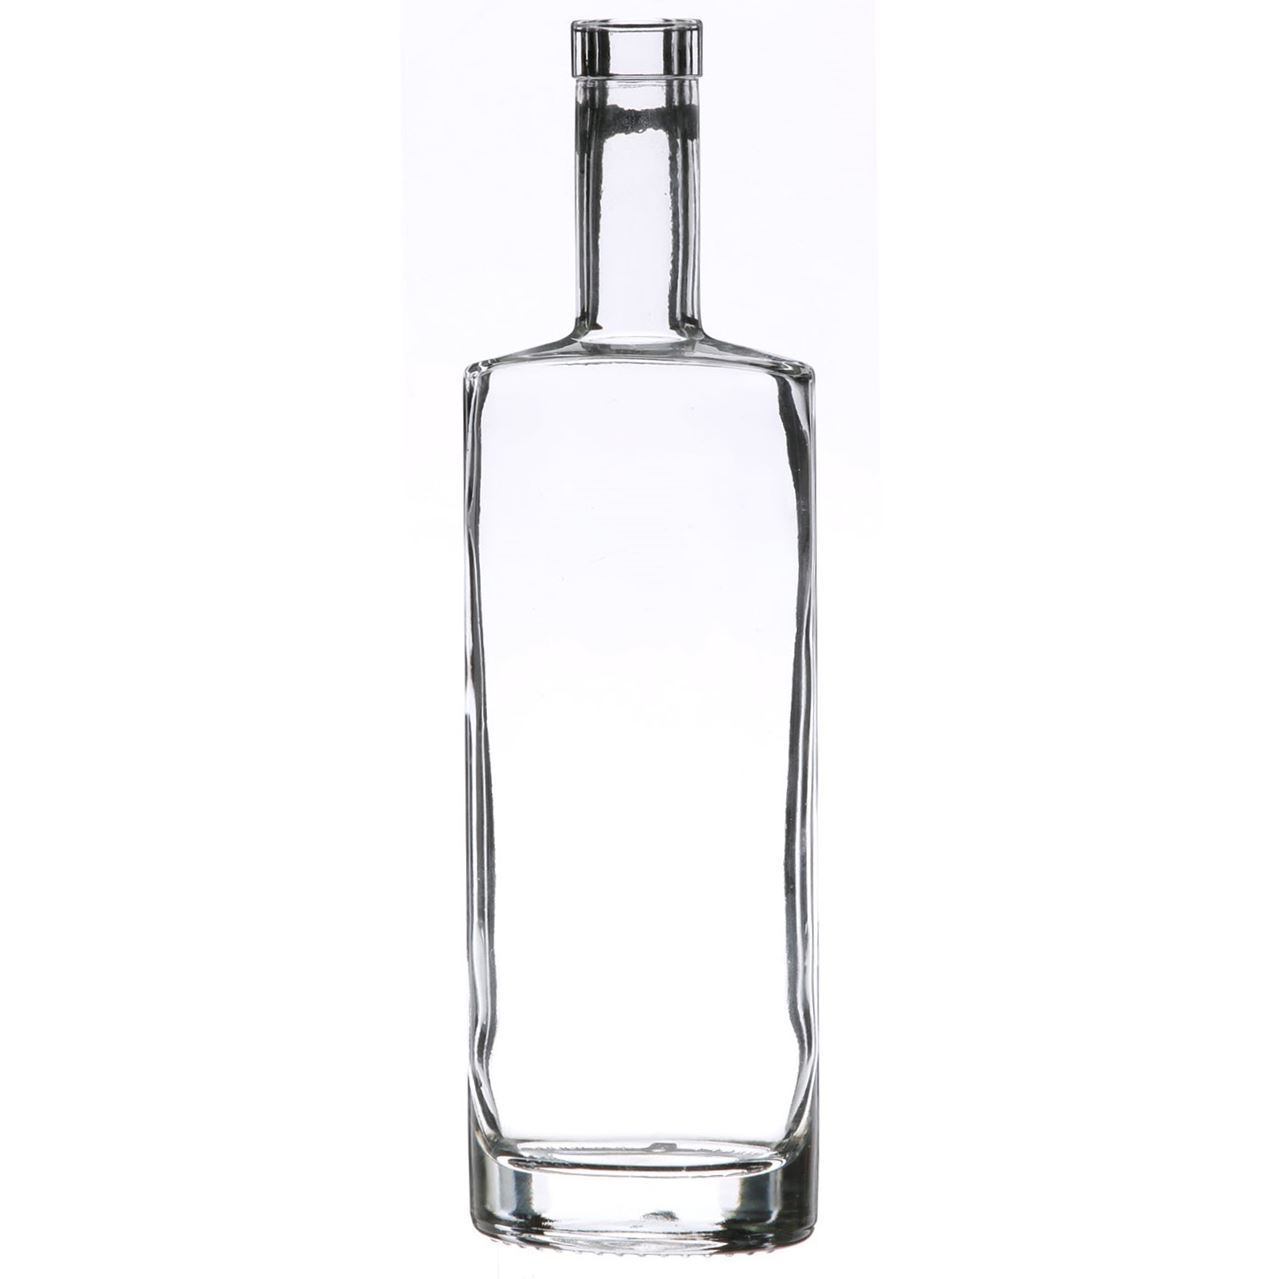glass_bottle: (439, 12, 851, 1259)
